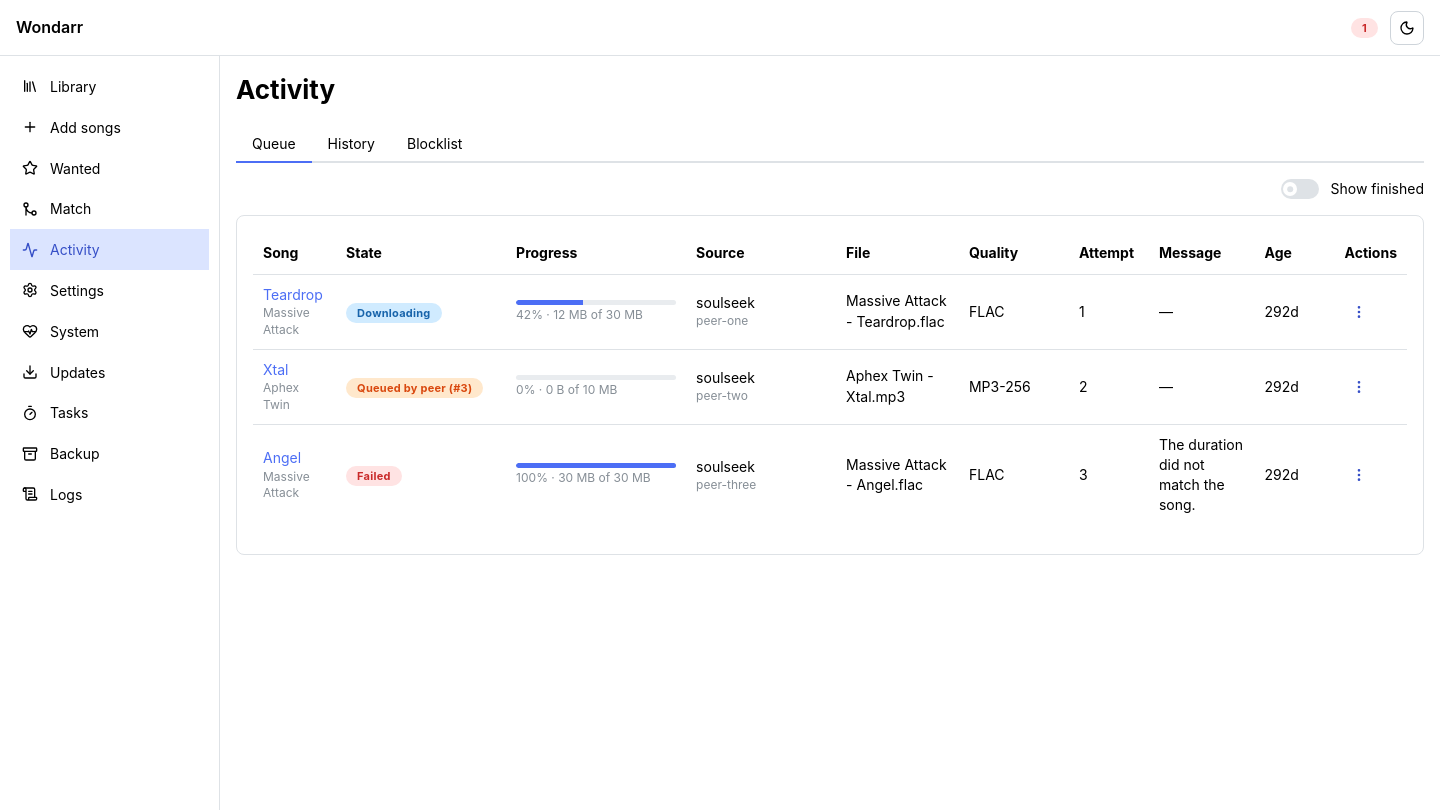
Test case: QueuePage › shows the failure above the table when a plain Remove is refused
Click the button named "Actions for Teardrop": (1359, 312) [1345,298,1373,326]
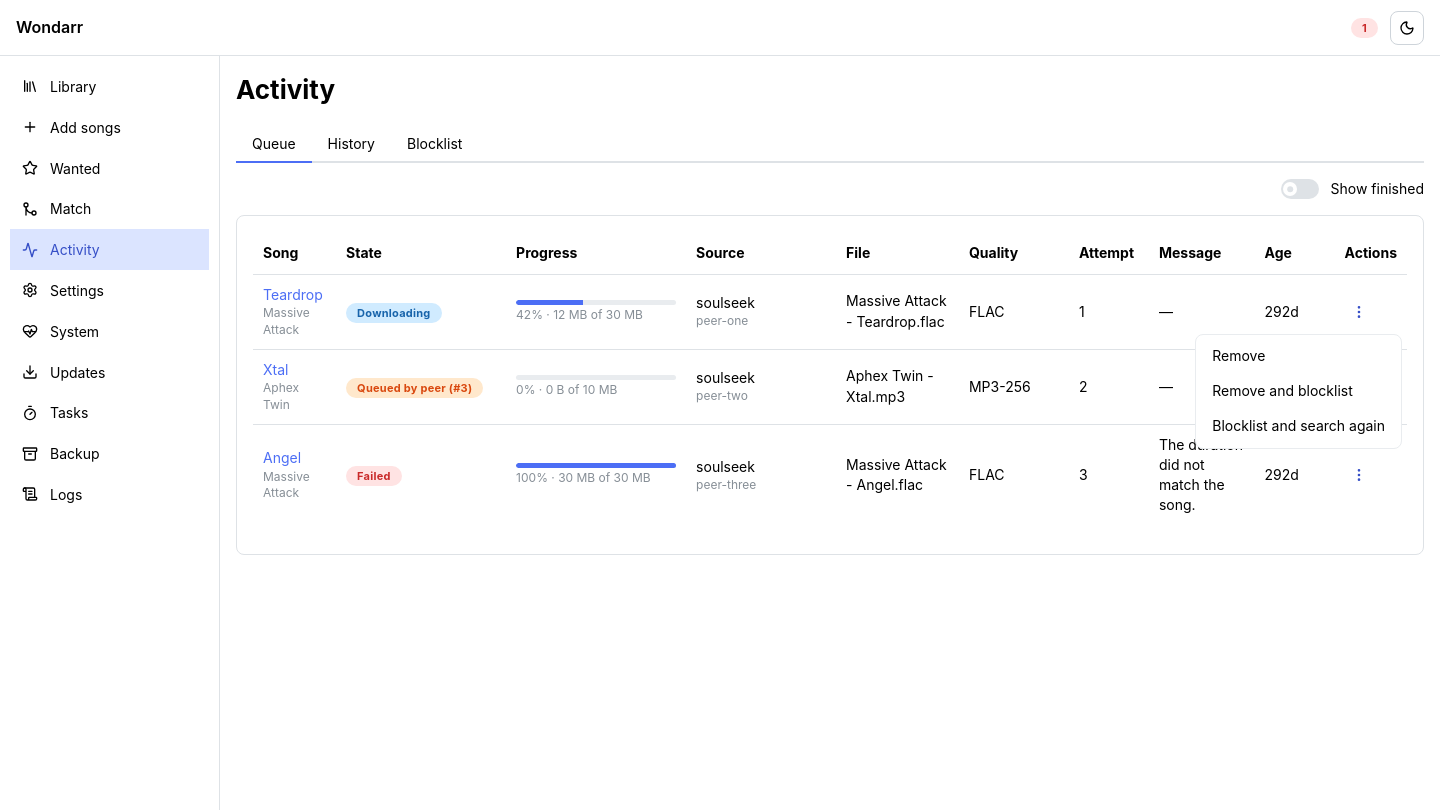
Click the menu item "Remove": (1299, 356) [1200,339,1397,374]
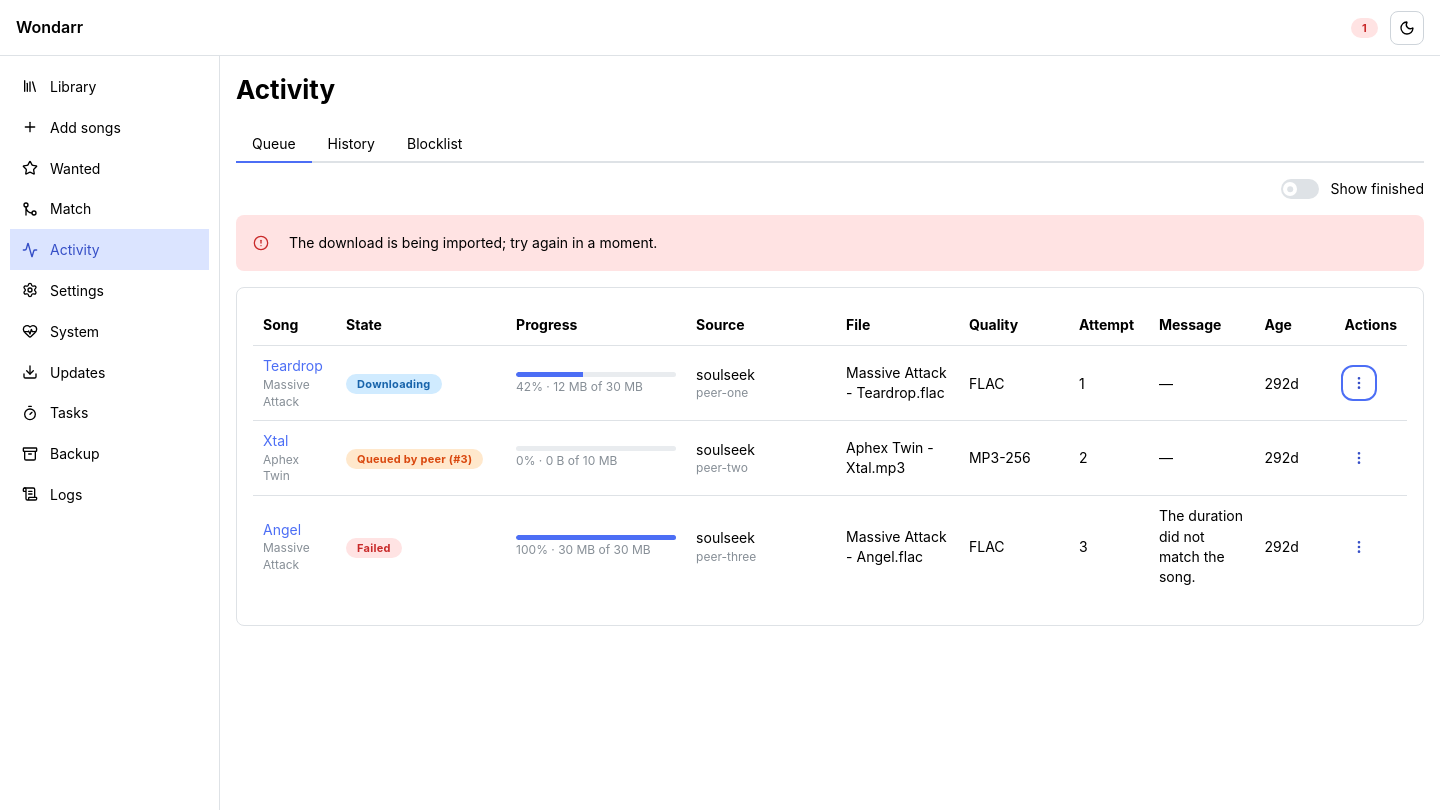
expect the text "The download is being imported; try again in a moment." is shown: met, box [289,234,657,251]
